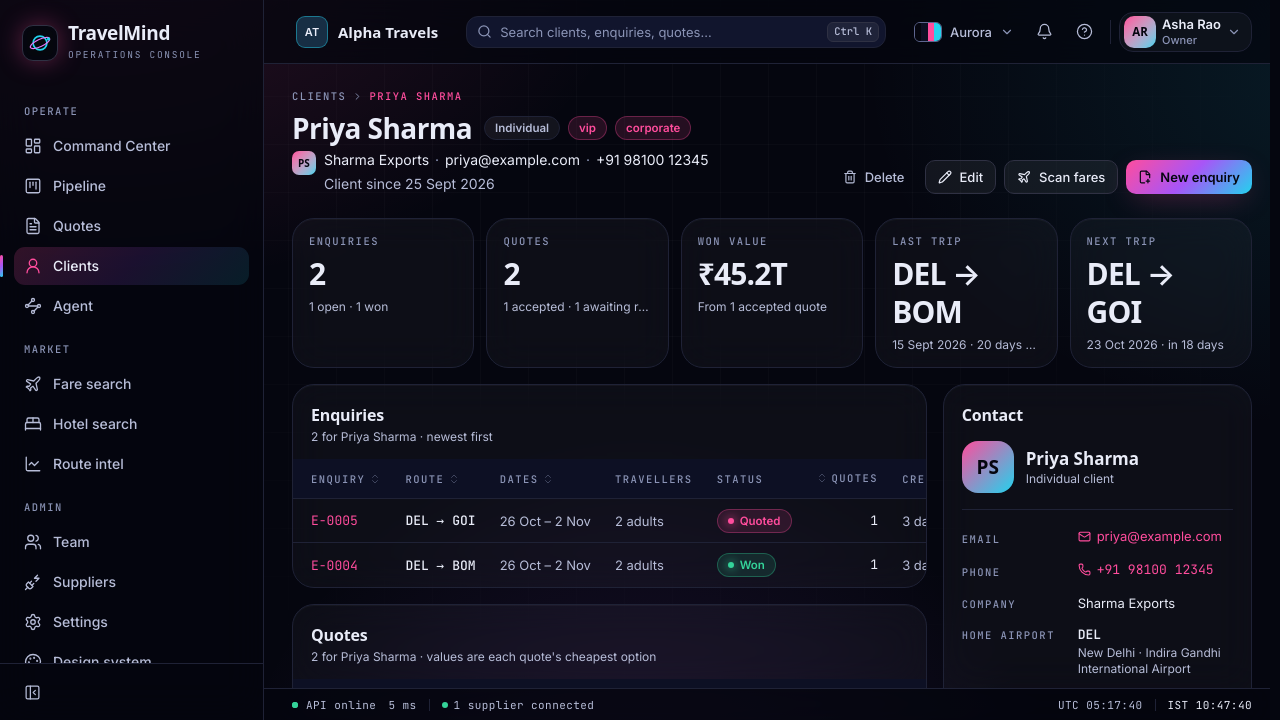
Edit saves only the changed fields
This screenshot has width=1280, height=720.
Click the button "Edit" at coordinates (960, 177), box [924, 160, 996, 194]
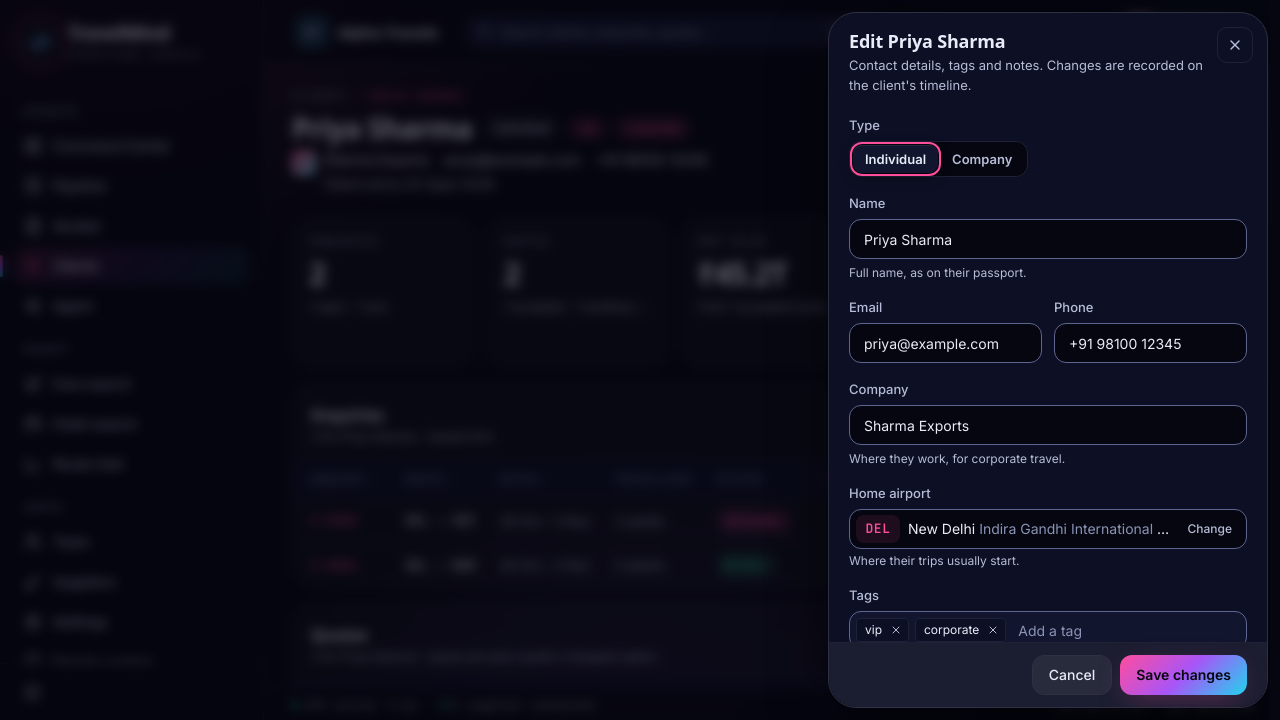
Expected: the field labelled "Name" holds "Priya Sharma", [849, 219, 1247, 259]
Expected: the button named "Remove tag vip" is shown, [886, 620, 906, 640]
Replace the text in the field labelled "Phone" with "+91 98100 99999" at coordinates (1150, 343), box [1054, 323, 1247, 363]
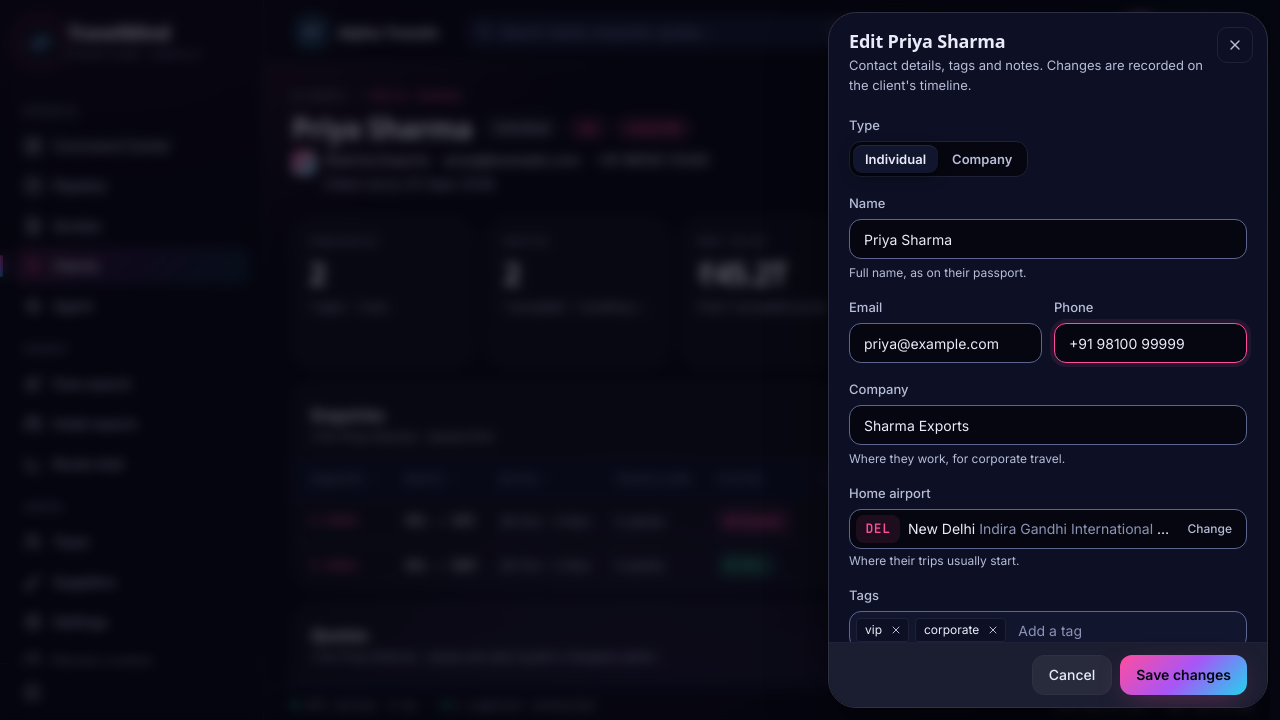
Click the button named "Remove tag vip" at coordinates (896, 630), box [886, 620, 906, 640]
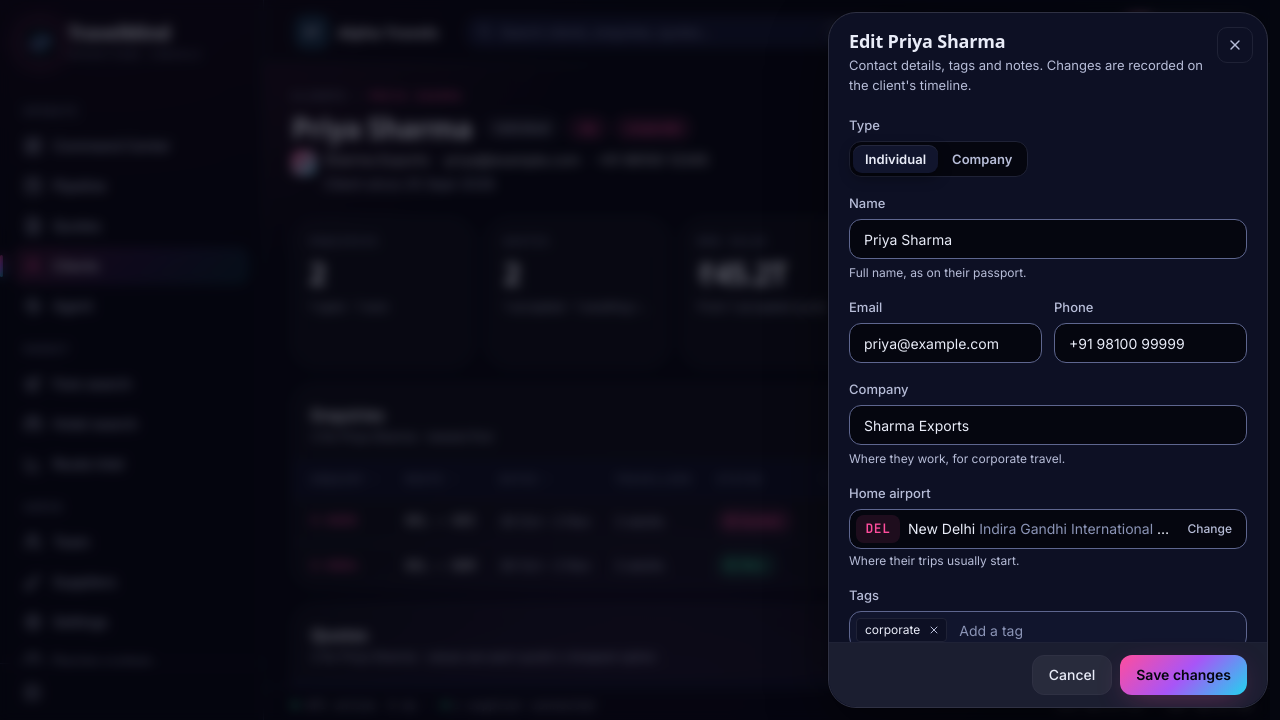
Click the button "Save changes" at coordinates (1184, 675), box [1120, 655, 1247, 695]
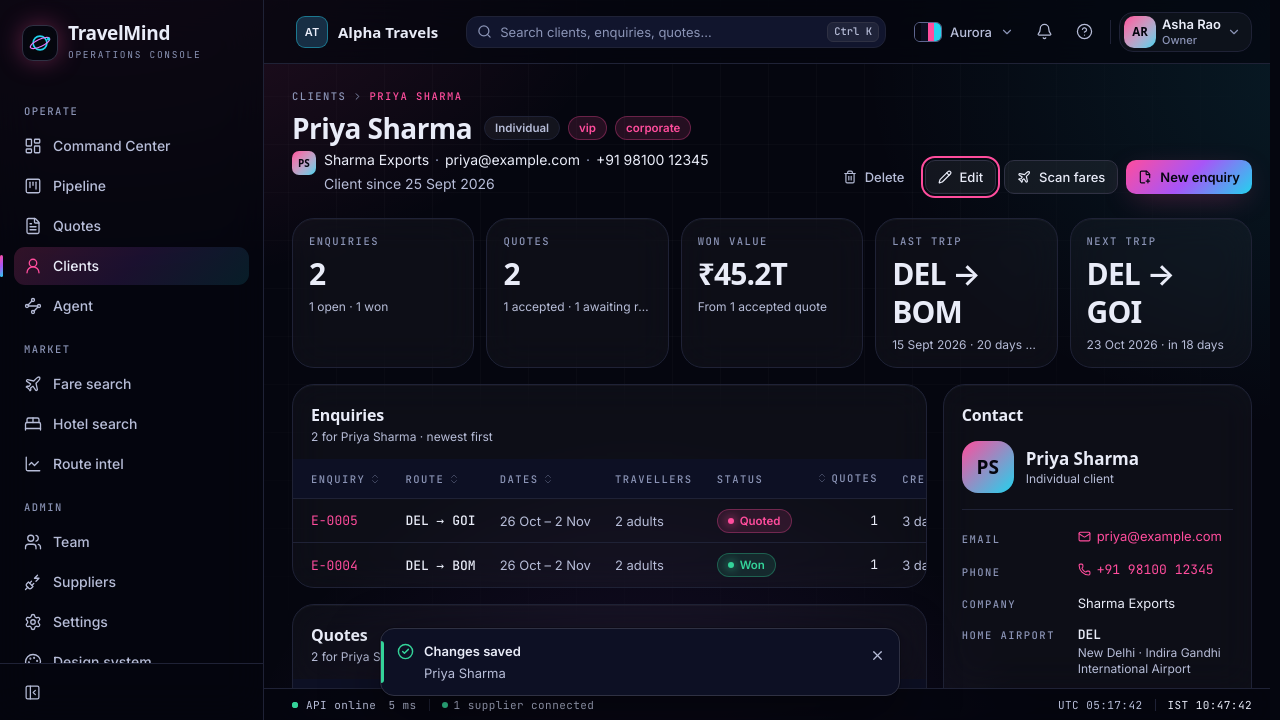
Expected: the heading "Edit Priya Sharma" is gone
Expected: the text "Changes saved" is shown, [424, 643, 521, 659]
